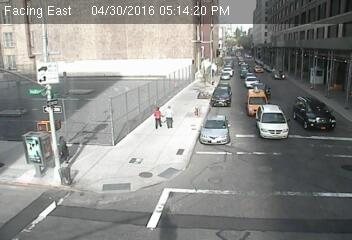neg: (137, 161, 173, 210), (251, 149, 280, 188), (303, 112, 331, 149), (190, 181, 218, 218), (240, 95, 261, 124), (192, 63, 207, 83), (218, 53, 231, 71), (248, 61, 259, 76), (265, 65, 276, 79), (291, 68, 299, 79)
pos: (48, 132, 76, 170), (158, 100, 181, 130), (148, 103, 168, 129)
